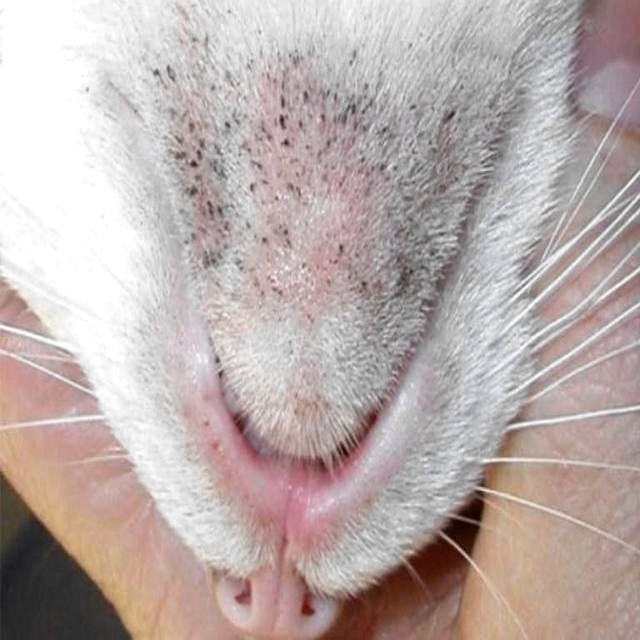acne: (147, 49, 457, 338)
